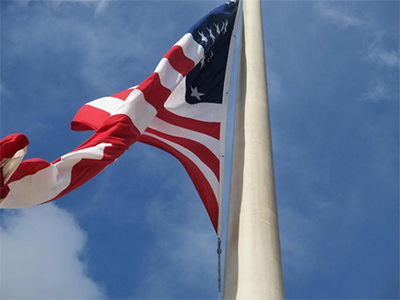America flag: (1, 1, 239, 234)
